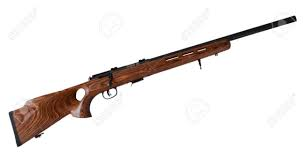shotgun: (5, 11, 299, 147)
